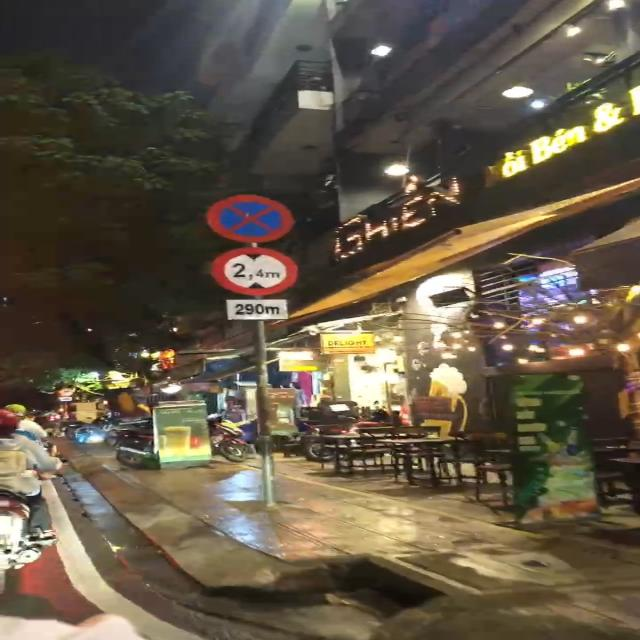Bien bao cam dung xe va do xe: (200, 192, 294, 242)
Bien bao han che chieu cao: (211, 244, 304, 296)
